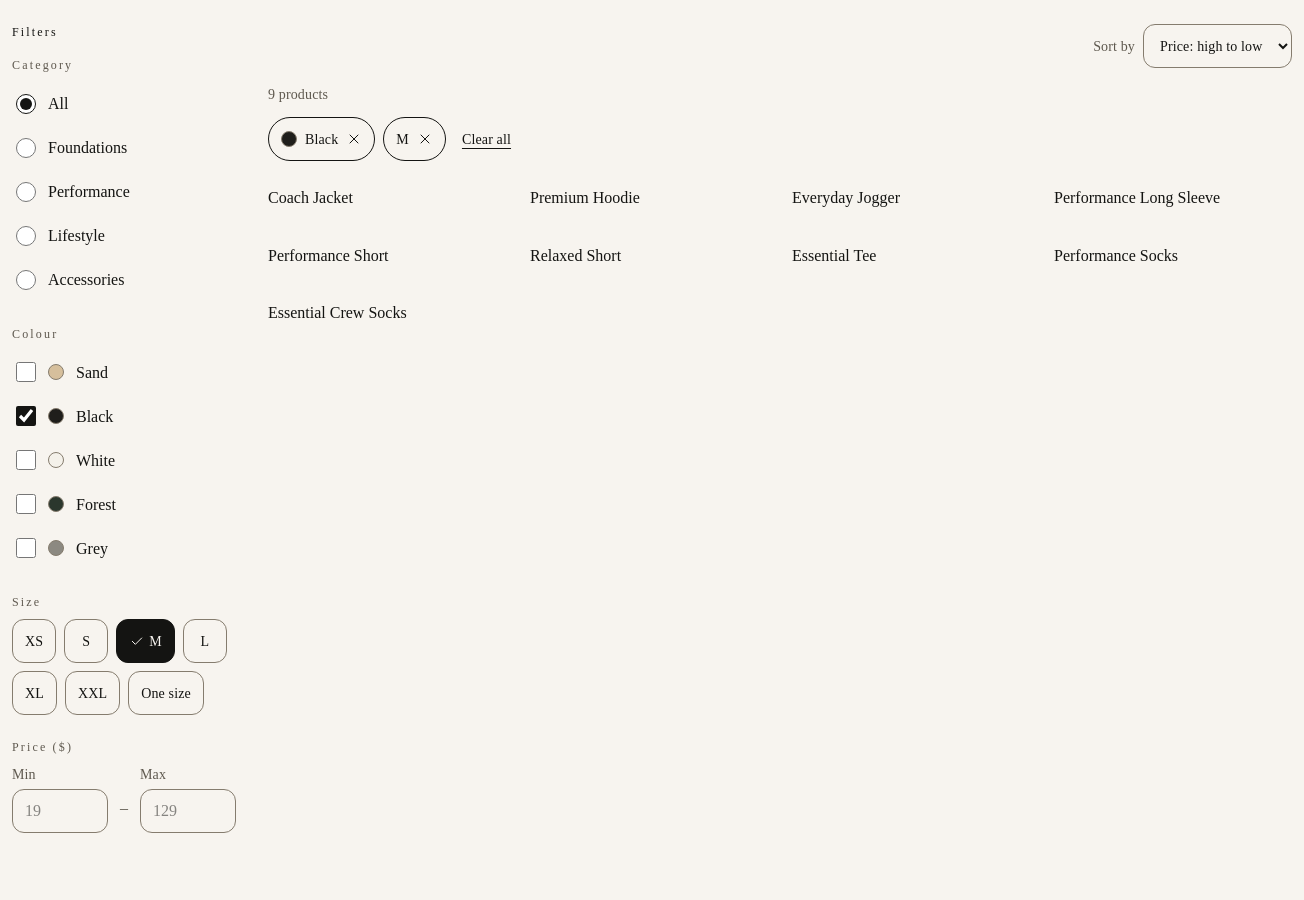
it: active filter chips (FR-021) › clears everything with "Clear all" but keeps the sort order
Click the button "Clear all": (487, 139) x1=454 y1=117 x2=519 y2=161
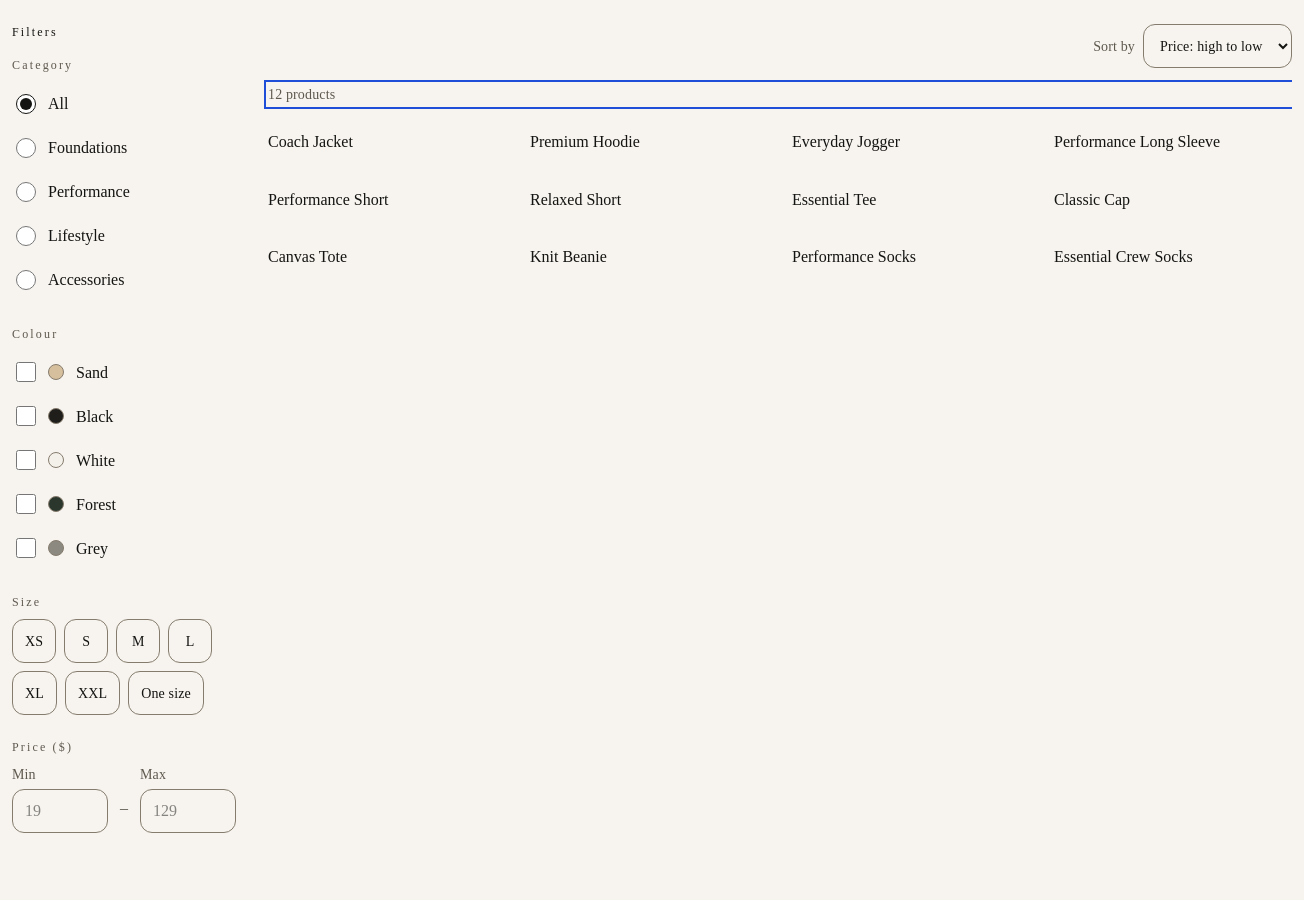
Now the text "12 products" is shown, box x1=268 y1=87 x2=335 y2=102
